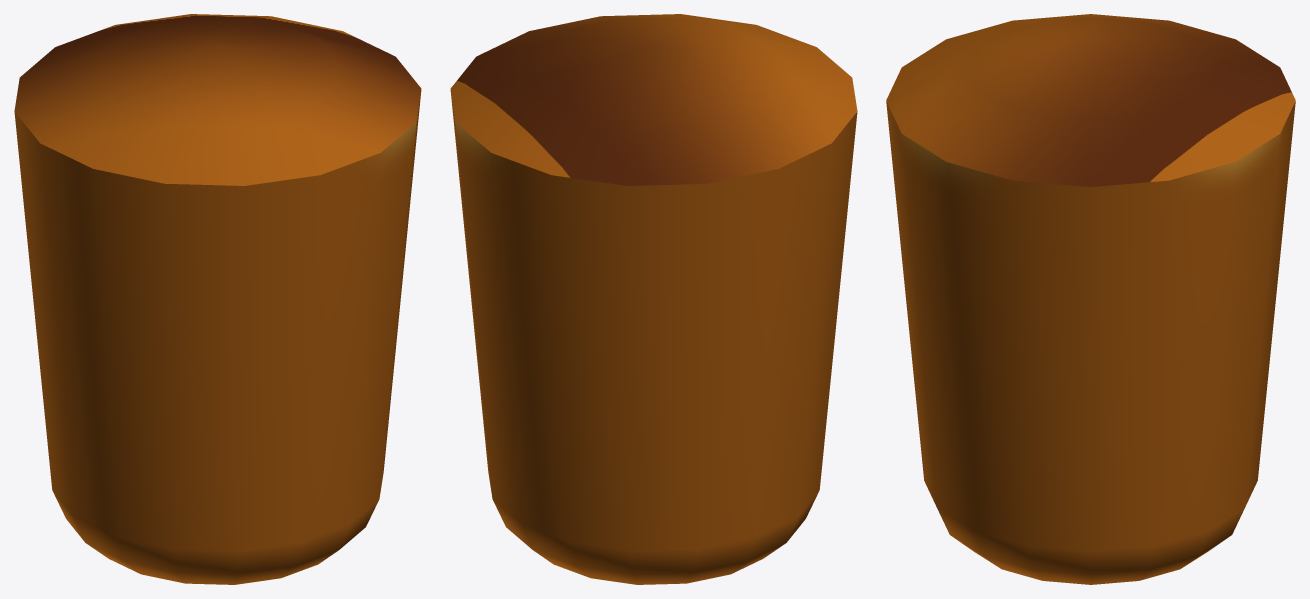
File: GlassMug_Large_Liquid_01.fbx
The picture shows the model from 3 angles, left to right: view 1: azimuth 30°, elevation 25°; view 2: azimuth 150°, elevation 25°; view 3: azimuth 270°, elevation 25°; orthographic projection.
Visible parts, largest first — view 1: GlassMug_Large_Liquid_01; view 2: GlassMug_Large_Liquid_01; view 3: GlassMug_Large_Liquid_01.
Boxes of the visible parts, <box> form: GlassMug_Large_Liquid_01: <box>14,14,421,584</box>; GlassMug_Large_Liquid_01: <box>450,14,857,584</box>; GlassMug_Large_Liquid_01: <box>886,14,1295,584</box>.
Bounding box in the file's own units: 28.81 × 38.96 × 28.81.
